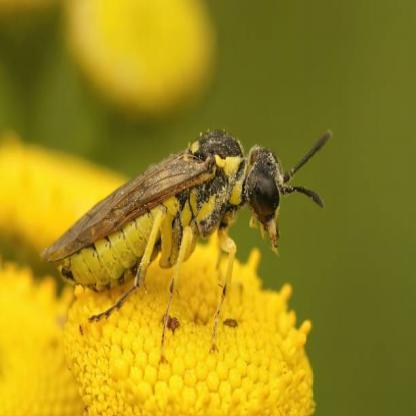sawfly: (34, 122, 338, 374)
